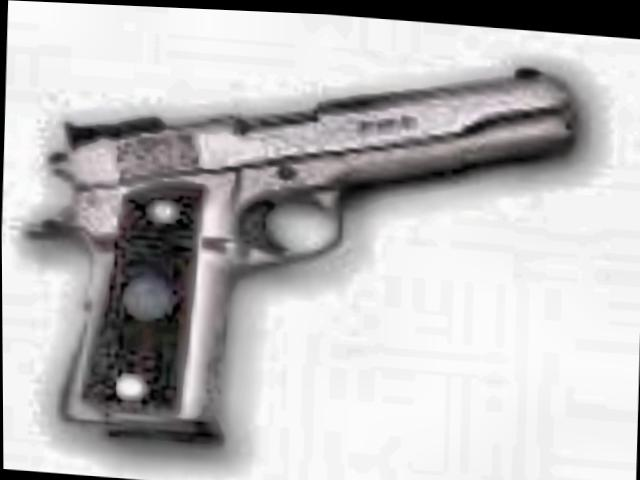pistol: (21, 19, 574, 476)
